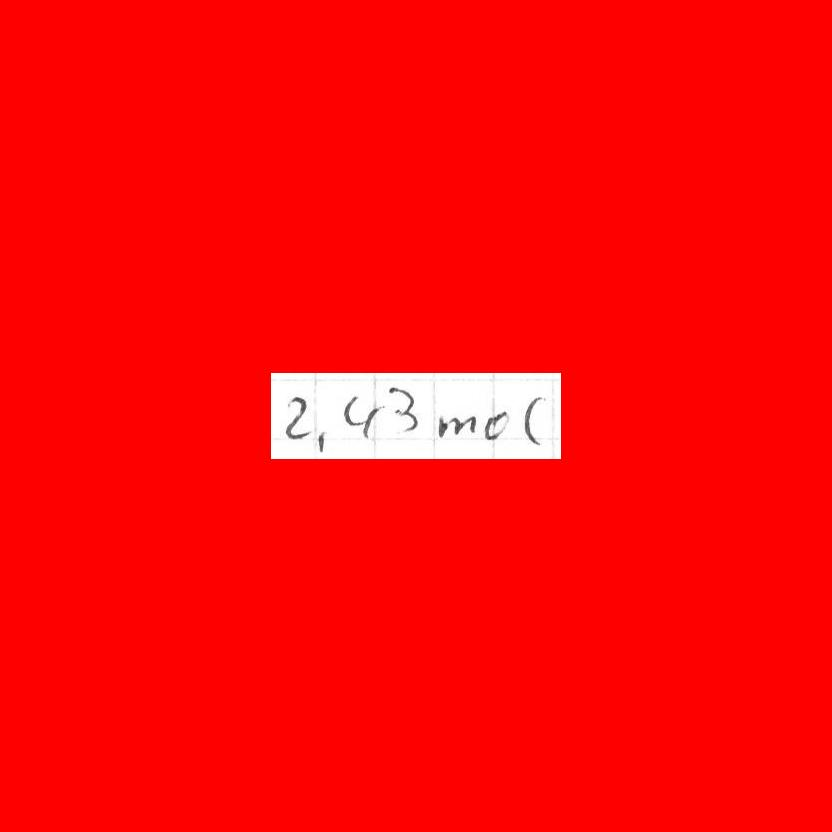Char: (343, 393, 384, 438), (280, 393, 313, 443), (388, 384, 421, 432), (433, 410, 479, 441), (483, 407, 513, 443), (523, 393, 544, 444), (314, 425, 328, 457)
